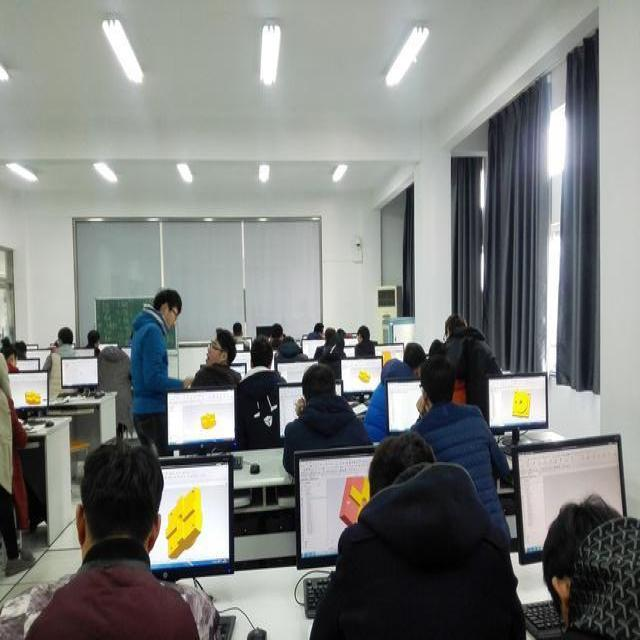no_helmet: (77, 428, 168, 566), (543, 494, 636, 628), (368, 422, 441, 518), (418, 353, 453, 405), (299, 354, 334, 400), (202, 329, 234, 367), (153, 286, 179, 326), (439, 308, 465, 348), (245, 334, 274, 369), (403, 340, 423, 382), (54, 322, 76, 350), (2, 339, 19, 367), (85, 323, 104, 347), (14, 332, 29, 358), (321, 323, 337, 343), (354, 322, 370, 342), (269, 320, 283, 340), (313, 318, 324, 338), (230, 318, 242, 334)
